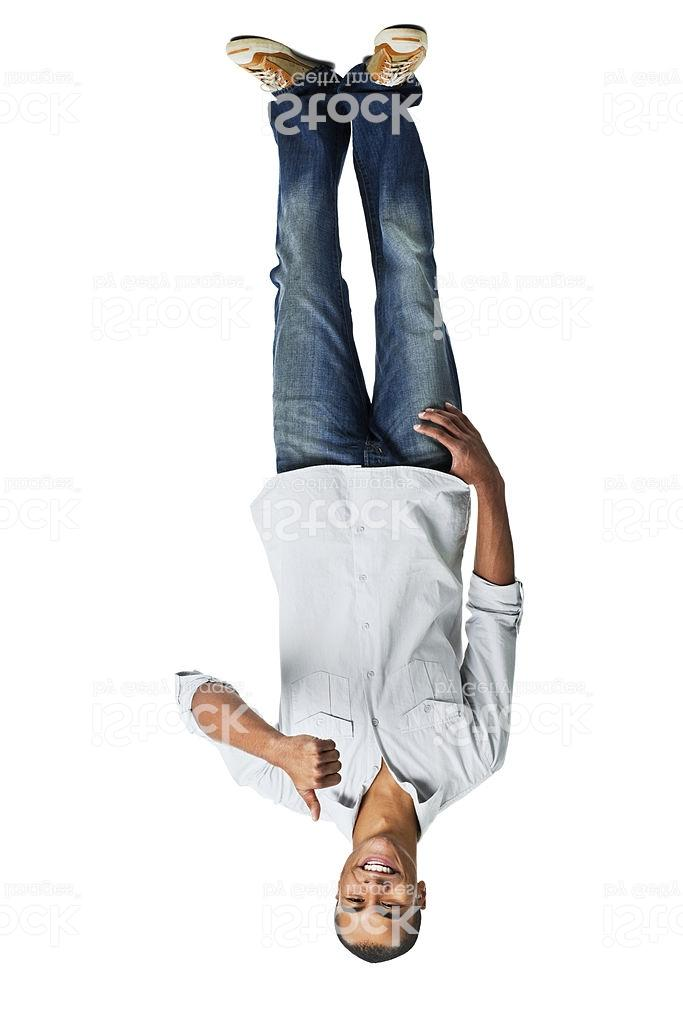thumbsdown: (301, 735, 344, 822)
